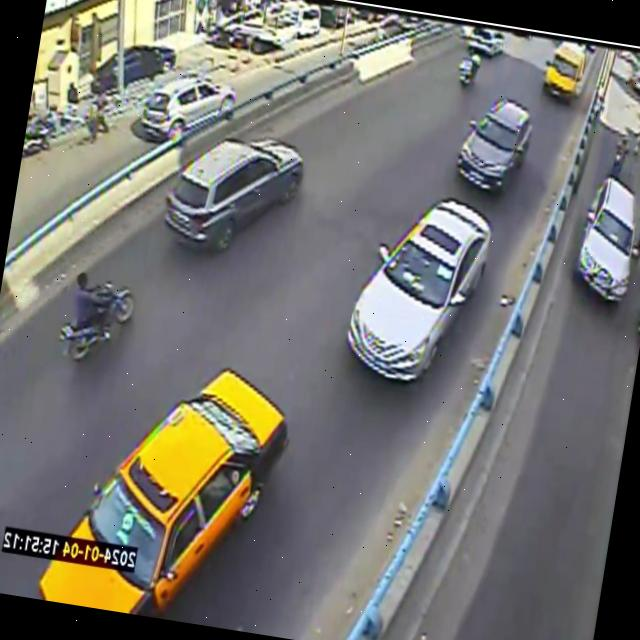car: (40, 370, 288, 617), (348, 199, 492, 382), (165, 139, 304, 250), (457, 98, 532, 190), (544, 42, 586, 100)
